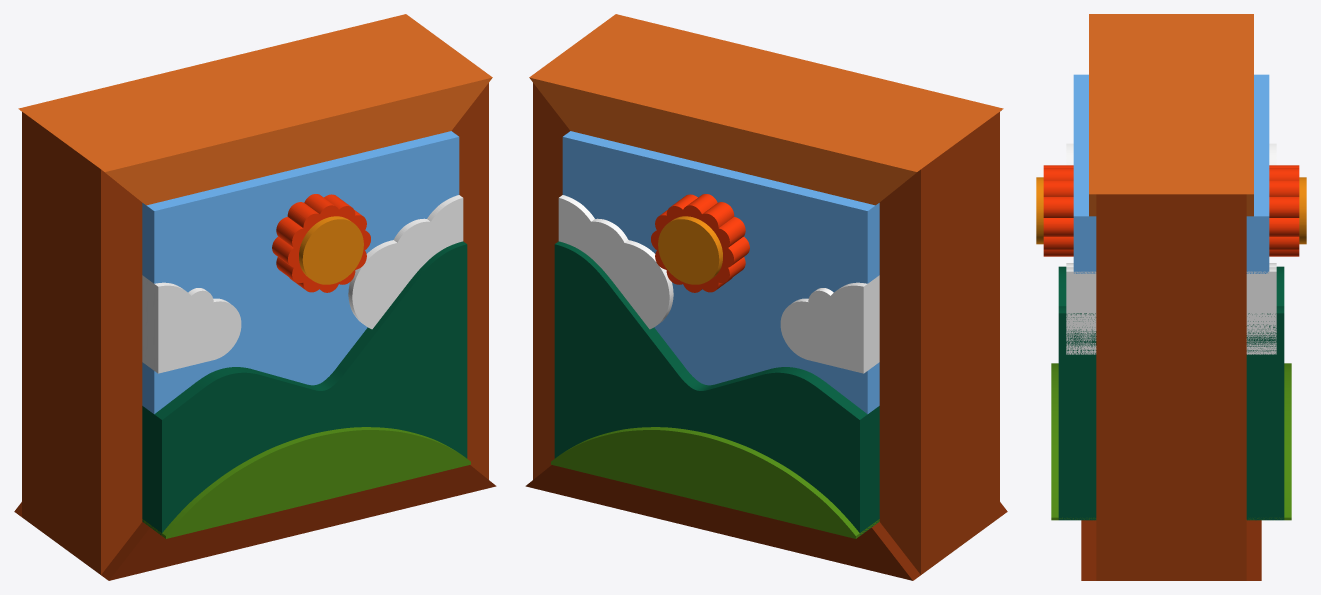
3 renders of one model, left to right at view 1: azimuth 30°, elevation 25°; view 2: azimuth 150°, elevation 25°; view 3: azimuth 270°, elevation 25°, orthographic. The views are drawn at different scales.
Parts seen in each view (by area): view 1: U+1F5BC_layer00_obj00, U+1F5BC_layer01_obj00, U+1F5BC_layer03_obj00, U+1F5BC_layer05_obj00, U+1F5BC_layer06_obj00, U+1F5BC_layer04_obj00, U+1F5BC_layer02_obj00, U+1F5BC_layer07_obj00, U+1F5BC_layer08_obj00; view 2: U+1F5BC_layer00_obj00, U+1F5BC_layer01_obj00, U+1F5BC_layer03_obj00, U+1F5BC_layer05_obj00, U+1F5BC_layer06_obj00, U+1F5BC_layer04_obj00, U+1F5BC_layer02_obj00, U+1F5BC_layer07_obj00, U+1F5BC_layer08_obj00; view 3: U+1F5BC_layer00_obj00, U+1F5BC_layer01_obj00, U+1F5BC_layer05_obj00, U+1F5BC_layer03_obj00, U+1F5BC_layer07_obj00, U+1F5BC_layer04_obj00, U+1F5BC_layer06_obj00, U+1F5BC_layer02_obj00, U+1F5BC_layer08_obj00.
Boxes of the visible parts, x1,y1,x2,y2 form: U+1F5BC_layer00_obj00: (22, 83, 488, 574); U+1F5BC_layer01_obj00: (18, 14, 492, 205); U+1F5BC_layer03_obj00: (142, 131, 459, 414); U+1F5BC_layer05_obj00: (142, 241, 467, 534); U+1F5BC_layer06_obj00: (142, 427, 470, 538); U+1F5BC_layer04_obj00: (142, 195, 463, 373); U+1F5BC_layer02_obj00: (14, 465, 496, 580); U+1F5BC_layer07_obj00: (272, 194, 370, 292); U+1F5BC_layer08_obj00: (299, 216, 363, 284); U+1F5BC_layer00_obj00: (533, 83, 999, 574); U+1F5BC_layer01_obj00: (529, 14, 1003, 205); U+1F5BC_layer03_obj00: (562, 131, 879, 414); U+1F5BC_layer05_obj00: (554, 241, 879, 534); U+1F5BC_layer06_obj00: (551, 427, 879, 538); U+1F5BC_layer04_obj00: (558, 195, 879, 373); U+1F5BC_layer02_obj00: (525, 465, 1007, 580); U+1F5BC_layer07_obj00: (651, 194, 749, 292); U+1F5BC_layer08_obj00: (658, 216, 722, 284); U+1F5BC_layer00_obj00: (1096, 194, 1246, 580); U+1F5BC_layer01_obj00: (1089, 14, 1253, 216); U+1F5BC_layer05_obj00: (1058, 266, 1284, 520); U+1F5BC_layer03_obj00: (1073, 74, 1269, 273); U+1F5BC_layer07_obj00: (1043, 165, 1299, 256); U+1F5BC_layer04_obj00: (1066, 143, 1276, 354); U+1F5BC_layer06_obj00: (1051, 363, 1291, 520); U+1F5BC_layer02_obj00: (1081, 520, 1261, 580); U+1F5BC_layer08_obj00: (1036, 177, 1306, 244).
Size of the model in its own units: 0.5678 by 0.5677 by 0.36.
